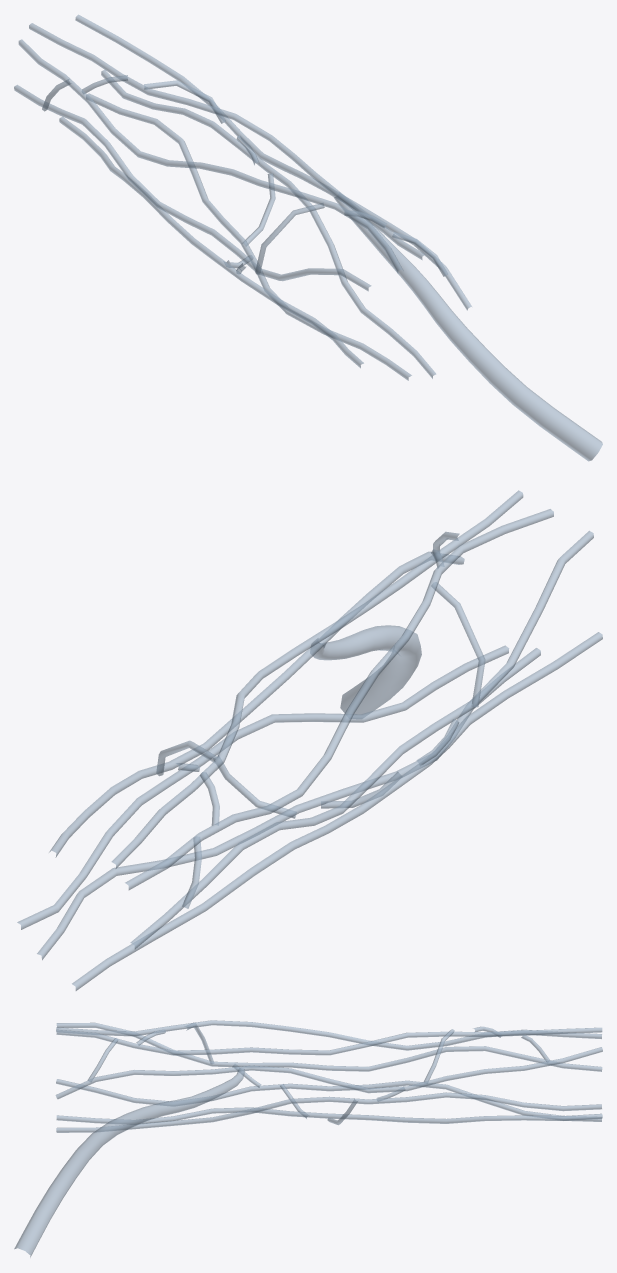
File: s3_vasoconstriction.glb
The picture shows the model from 3 angles, top to bottom: view 1: azimuth 30°, elevation 25°; view 2: azimuth 150°, elevation 25°; view 3: azimuth 270°, elevation 25°; orthographic projection. The views are drawn at different scales.
Visible parts, largest first — view 1: capillaries; view 2: capillaries; view 3: capillaries.
Boxes of the visible parts, x1=… form: capillaries: x1=14, y1=14, x2=602, y2=461; capillaries: x1=17, y1=490, x2=602, y2=990; capillaries: x1=14, y1=1020, x2=602, y2=1257.
Bounding box in the file's own units: 1.49 × 1.41 × 4.32.
